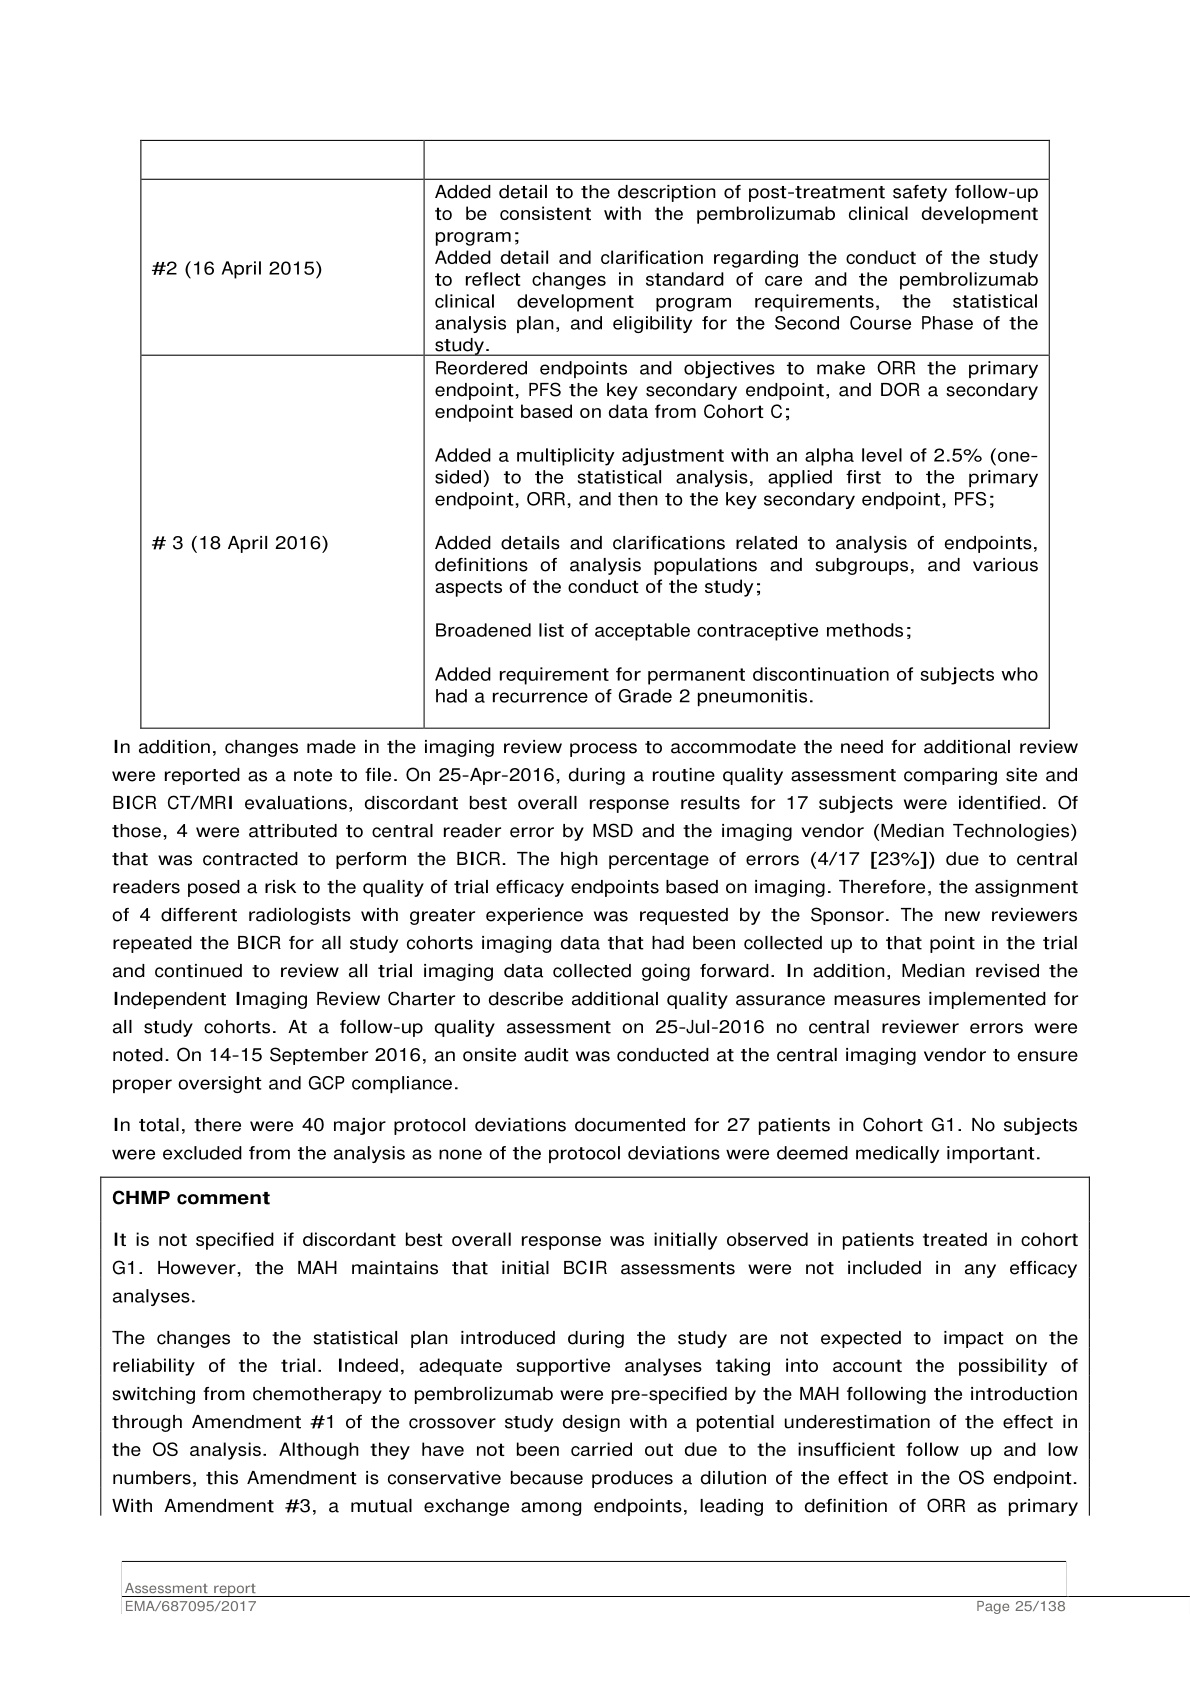full_lined: (139, 138, 1051, 729)
